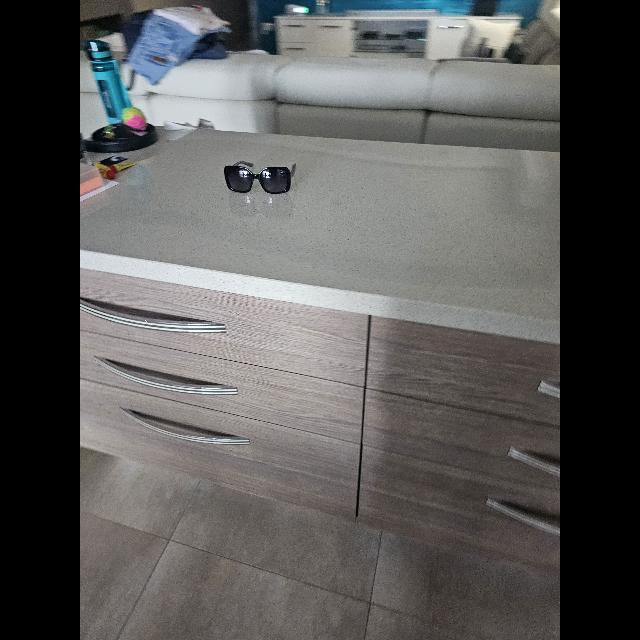Sunglasses: (224, 160, 296, 193)
